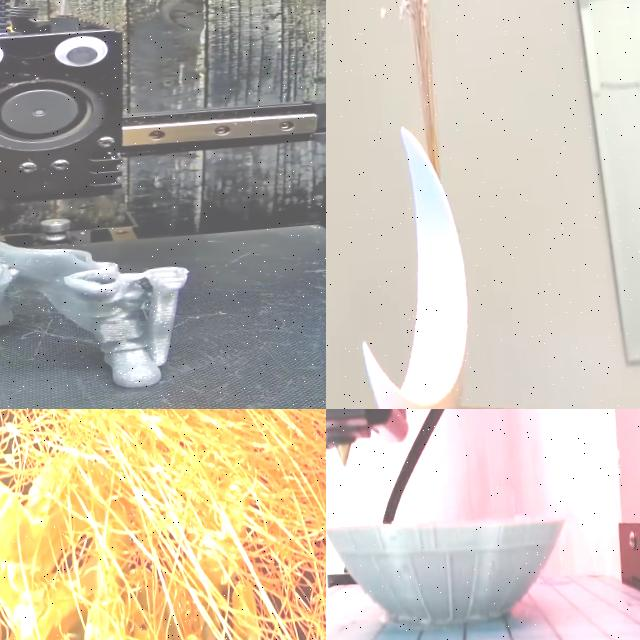spaghetti: (0, 409, 326, 640)
